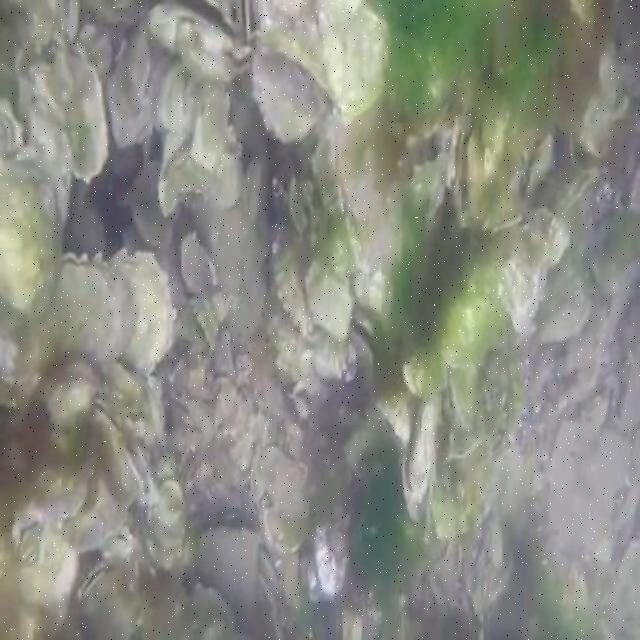Oyster-Closed: (440, 207, 550, 373), (256, 0, 392, 120), (0, 127, 62, 319), (138, 0, 244, 80), (248, 49, 328, 145), (250, 442, 310, 552), (106, 24, 160, 144), (66, 48, 112, 178), (304, 248, 354, 346)
Oyster-Open: (154, 76, 230, 216), (51, 246, 137, 366), (5, 506, 77, 640), (9, 32, 77, 168), (108, 236, 176, 370), (568, 32, 628, 178), (87, 397, 159, 505), (395, 397, 449, 519), (442, 112, 492, 232), (80, 554, 140, 640), (397, 120, 449, 212), (438, 355, 486, 435), (512, 119, 554, 207), (348, 311, 388, 394), (374, 383, 414, 442)
